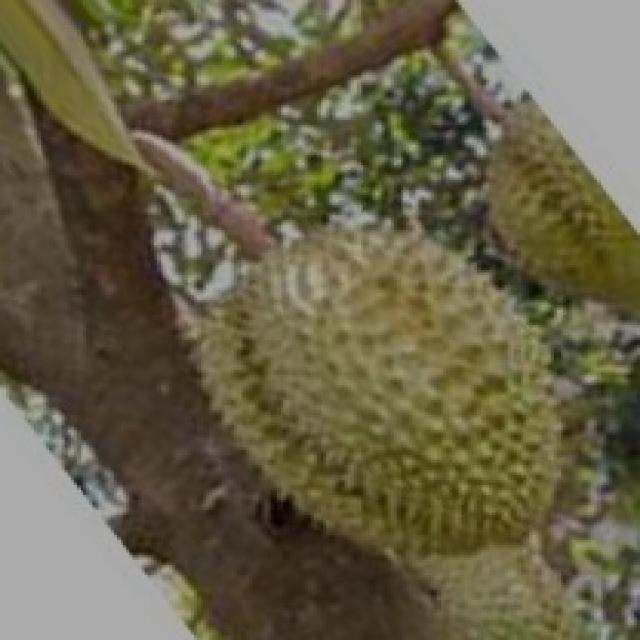fruit: (206, 198, 619, 602)
